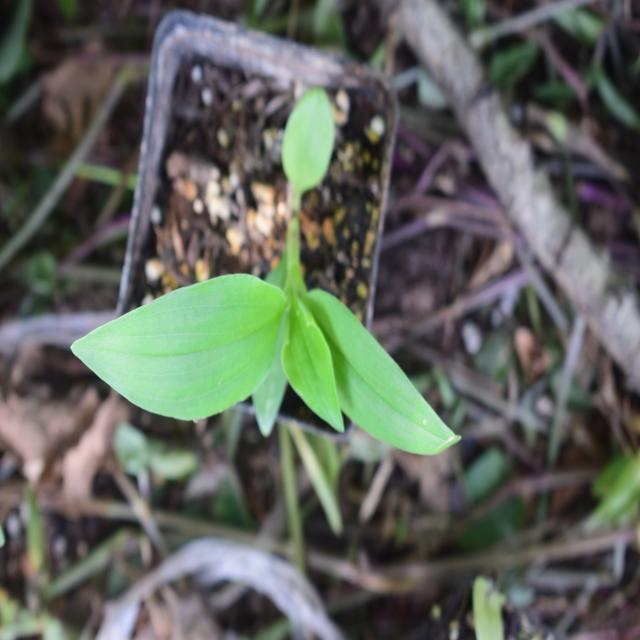Common Dayflower: (71, 221, 468, 483)
